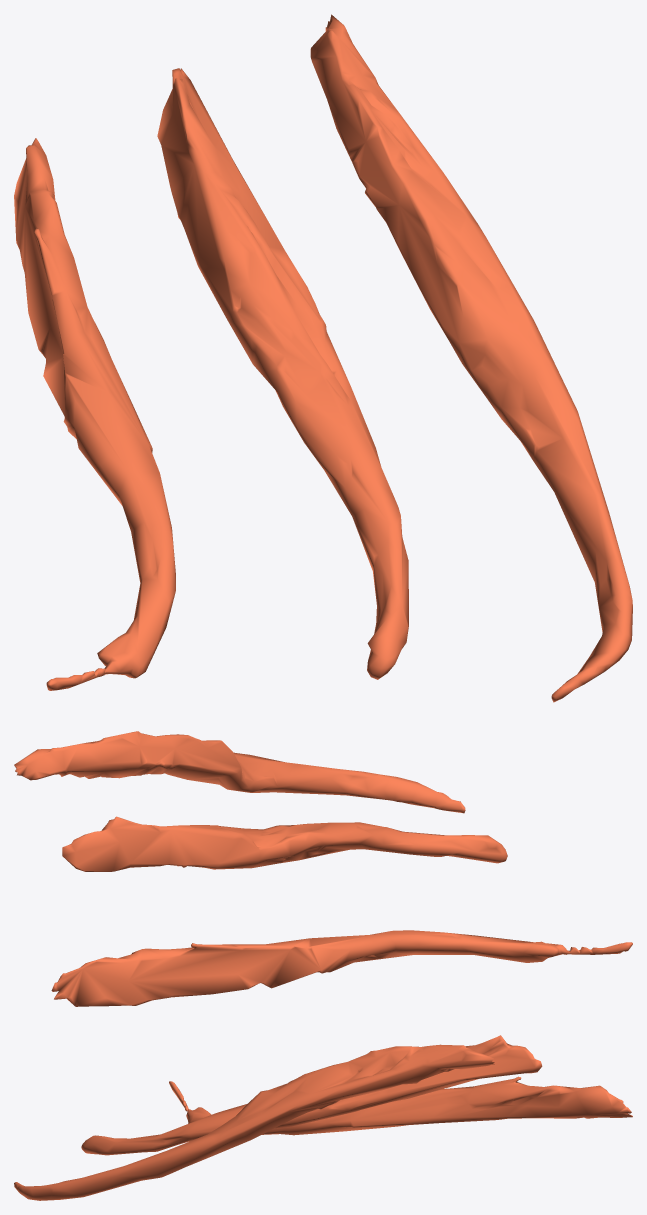
File: Plantar_interossei_muscles.r_Generated_Mesh_From_X3D.296.glb
3 views of the same model, one above another, from view 1: azimuth 30°, elevation 25°; view 2: azimuth 150°, elevation 25°; view 3: azimuth 270°, elevation 25° (orthographic). The views are drawn at different scales.
Visible parts, largest first — view 1: Plantar_interossei_muscles.r_Generated_Mesh_From_X3D.296; view 2: Plantar_interossei_muscles.r_Generated_Mesh_From_X3D.296; view 3: Plantar_interossei_muscles.r_Generated_Mesh_From_X3D.296.
Part boxes in pixels (left/top/right/bottom): Plantar_interossei_muscles.r_Generated_Mesh_From_X3D.296: left=14, top=14, right=632, bottom=702; Plantar_interossei_muscles.r_Generated_Mesh_From_X3D.296: left=14, top=731, right=632, bottom=1006; Plantar_interossei_muscles.r_Generated_Mesh_From_X3D.296: left=14, top=1035, right=632, bottom=1200.
Bounding box in the file's own units: 0.043 × 0.0263 × 0.0718.
